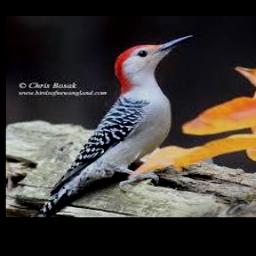Woodpecker: (32, 34, 193, 217)
